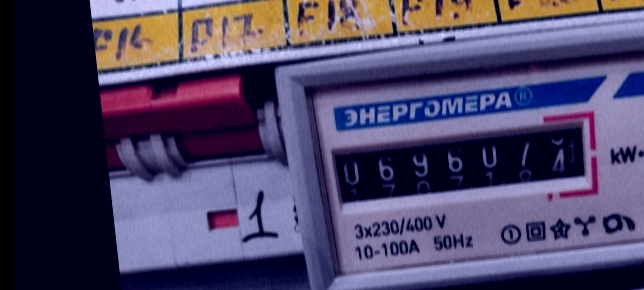0: (477, 139, 499, 171), (339, 157, 360, 187)
4: (547, 146, 566, 176)
6: (442, 144, 464, 175), (373, 152, 395, 182)
7: (513, 137, 533, 169)
9: (408, 149, 428, 179)
screen: (314, 103, 607, 223)
